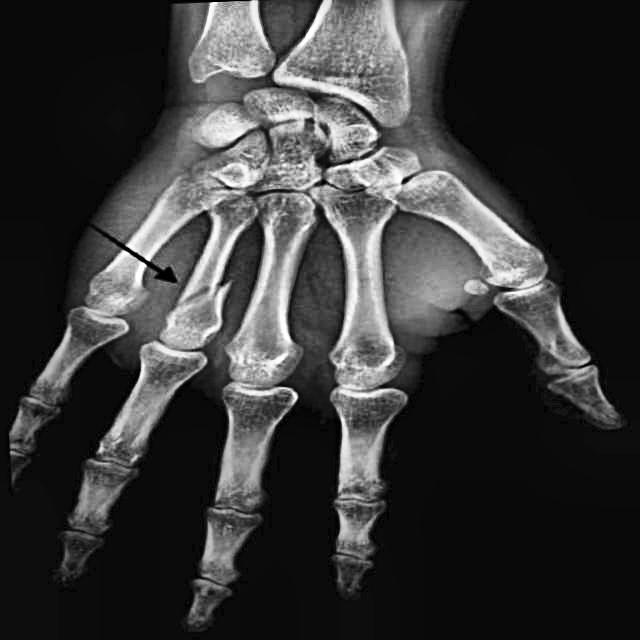Oblique Displaced: (155, 251, 259, 351)
